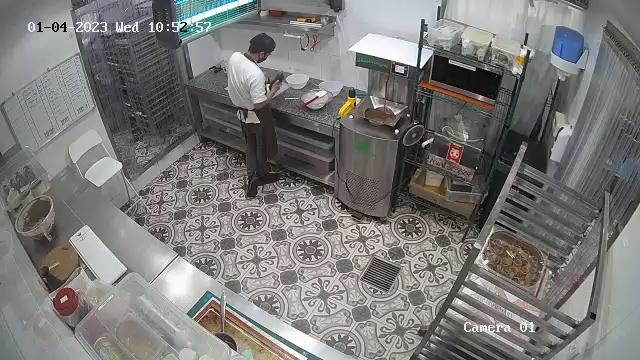apron: (227, 92, 267, 122)
